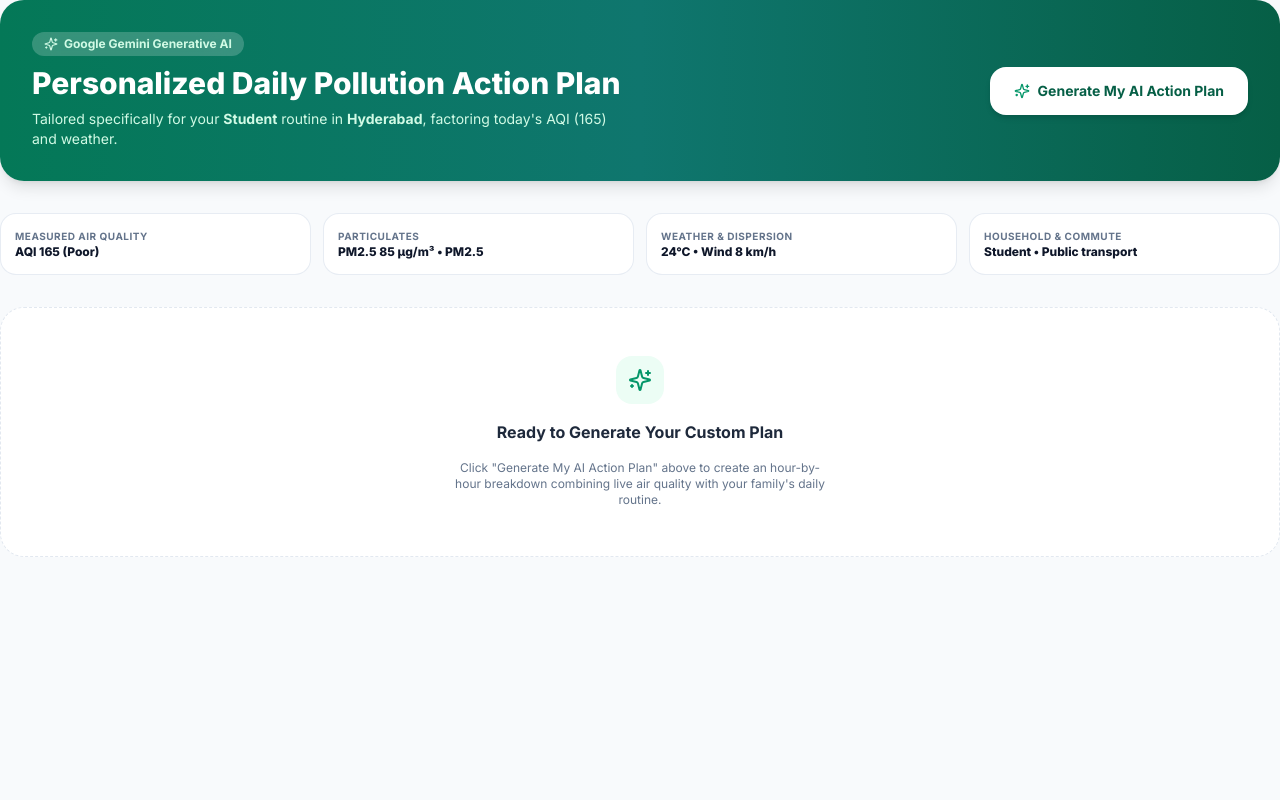
Test case: AirWise AI Frontend Application Tests › generates AI daily plan and shows alert banner with retry on failure
Later steps or results of the test are not shown.
What coordinates should you click on to do the following:
click the button "Generate My AI Action Plan"
I would click on:
 (1119, 90)
Its box is [990,66,1248,114].
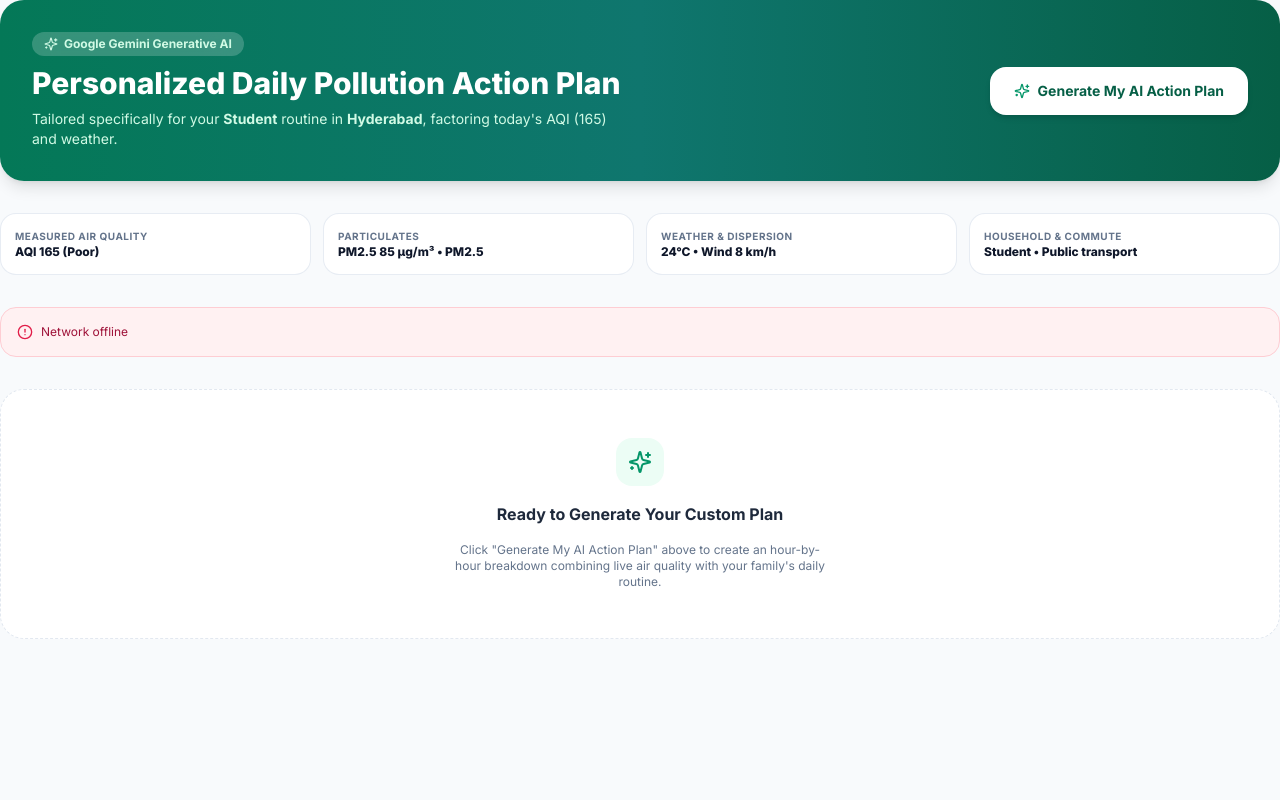
Result: the message reads "Network offline" at [41,324,128,339]
